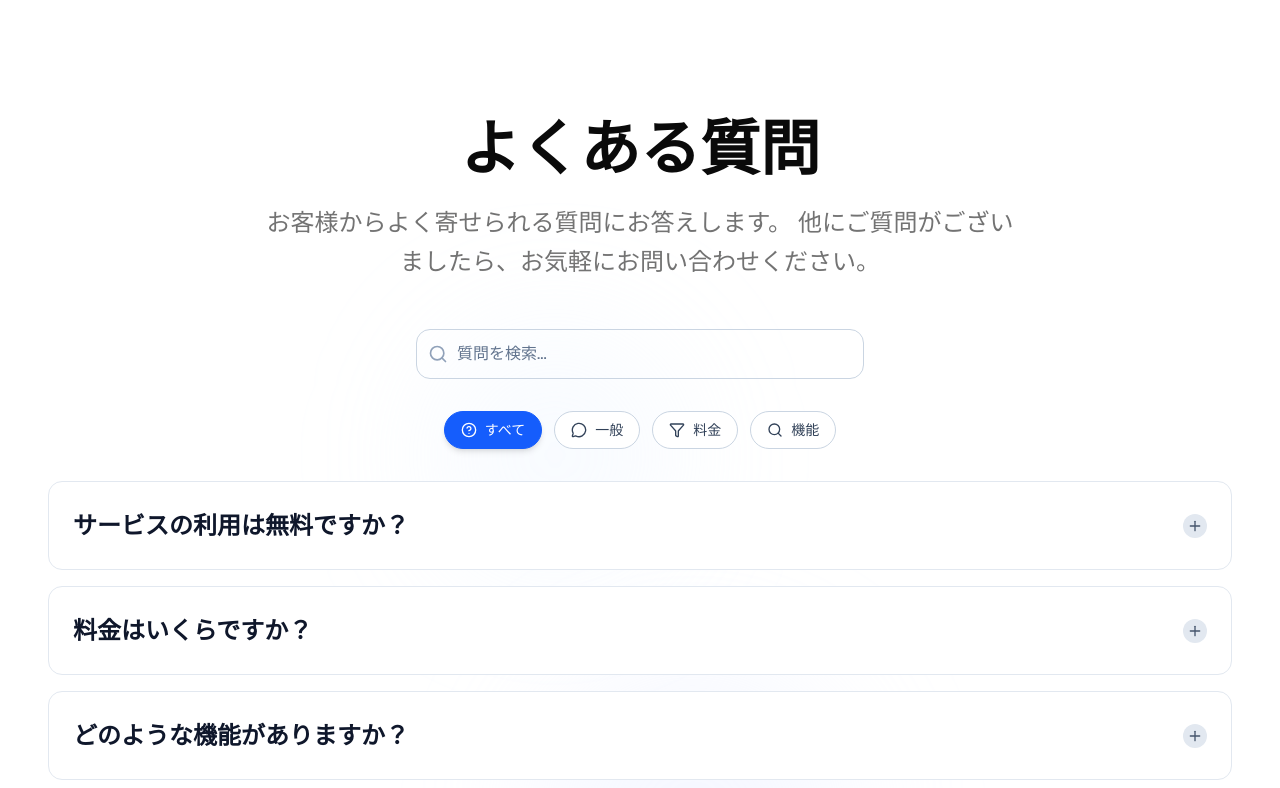
Test: FAQSection › FAQ項目をクリックすると回答が表示される
The width and height of the screenshot is (1280, 788).
Step 1. Click the button "サービスの利用は無料ですか？" → click(241, 526), box [49,482,1231,569]
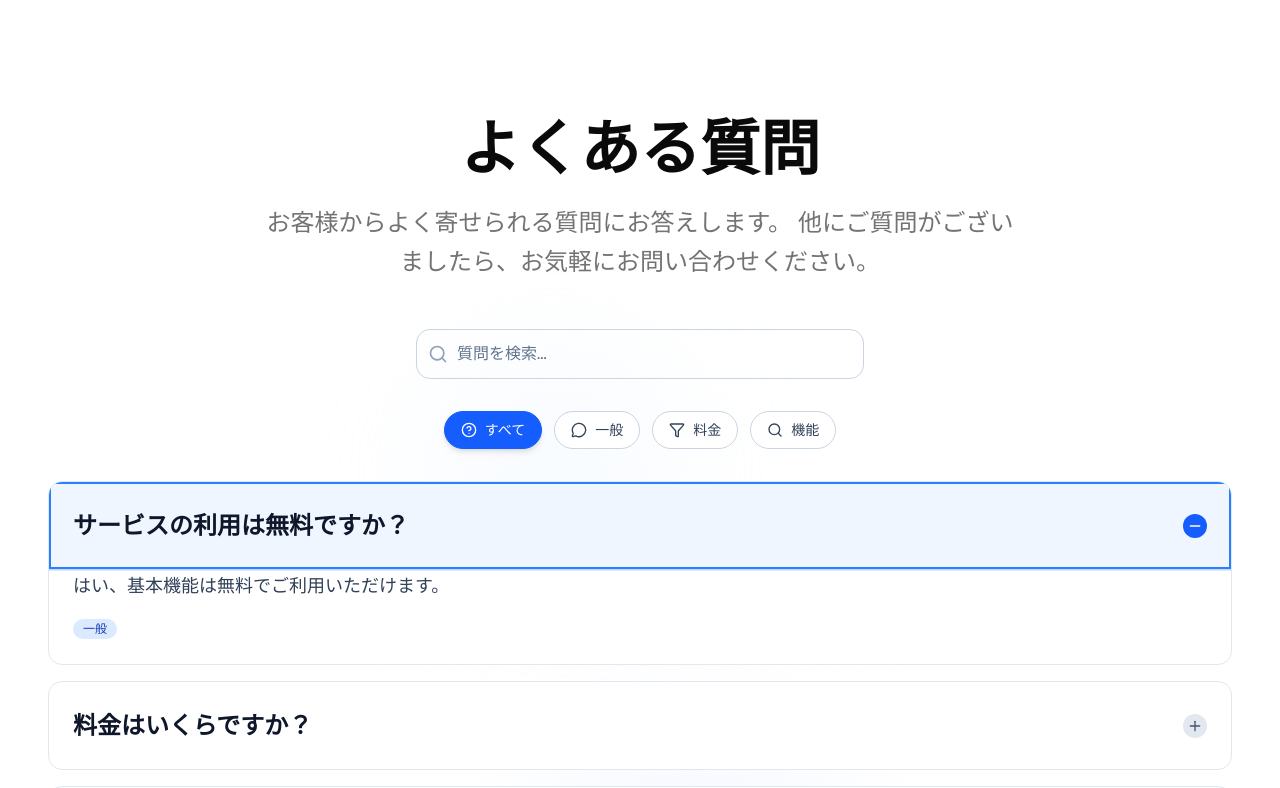
Now the text "はい、基本機能は無料でご利用いただけます。" is shown, box [73,574,449,597]
